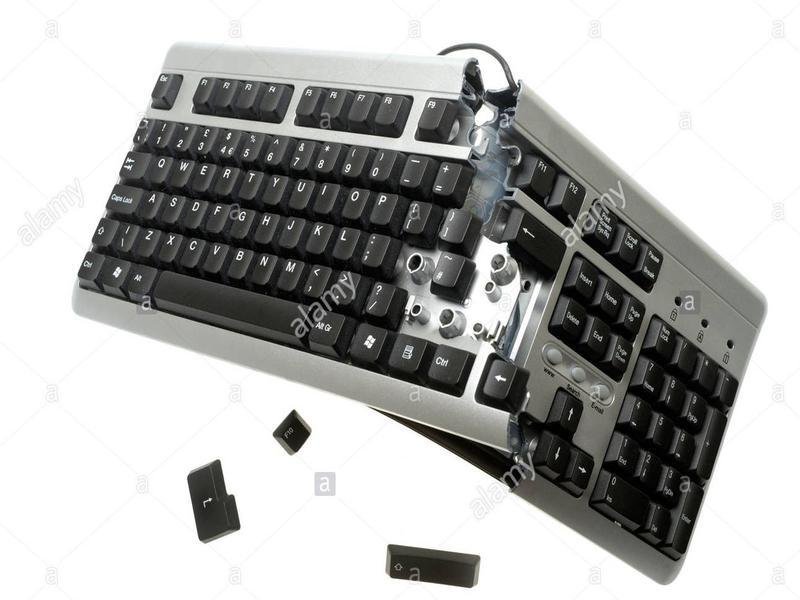keyboard: (74, 37, 771, 584)
